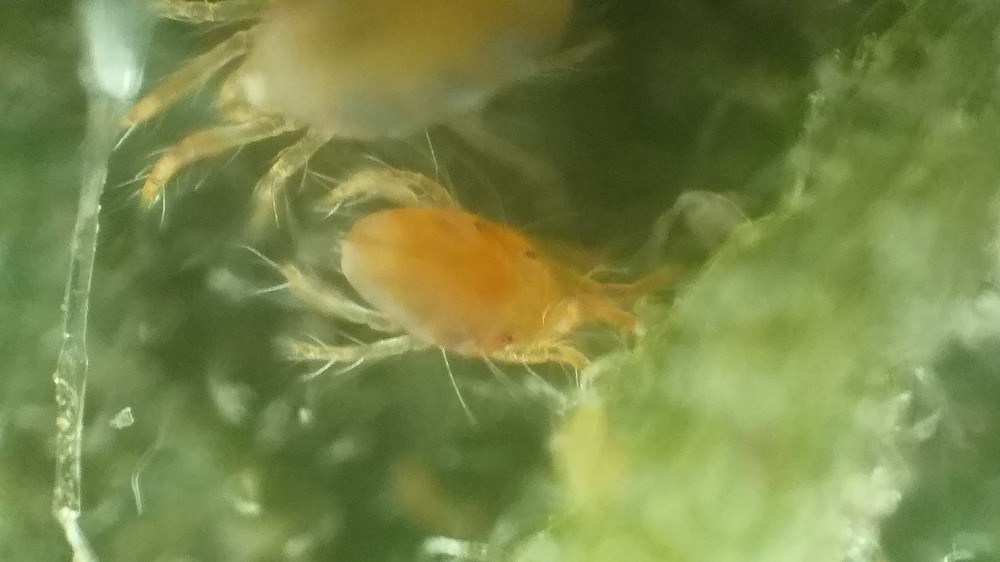Aracnido Rojo: (116, 2, 644, 213), (267, 162, 694, 409)
